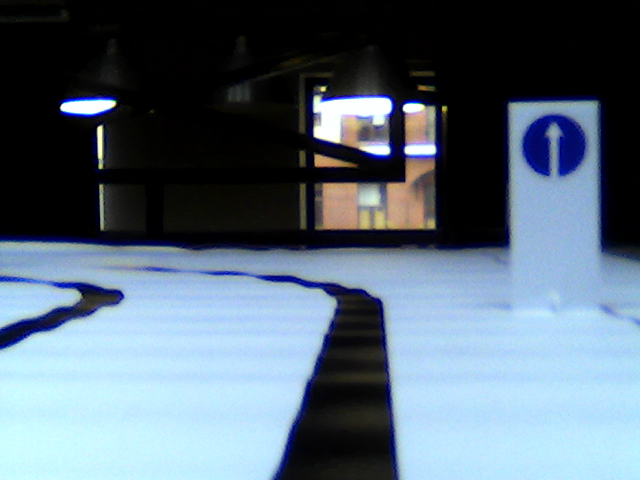forw: (520, 112, 590, 177)
